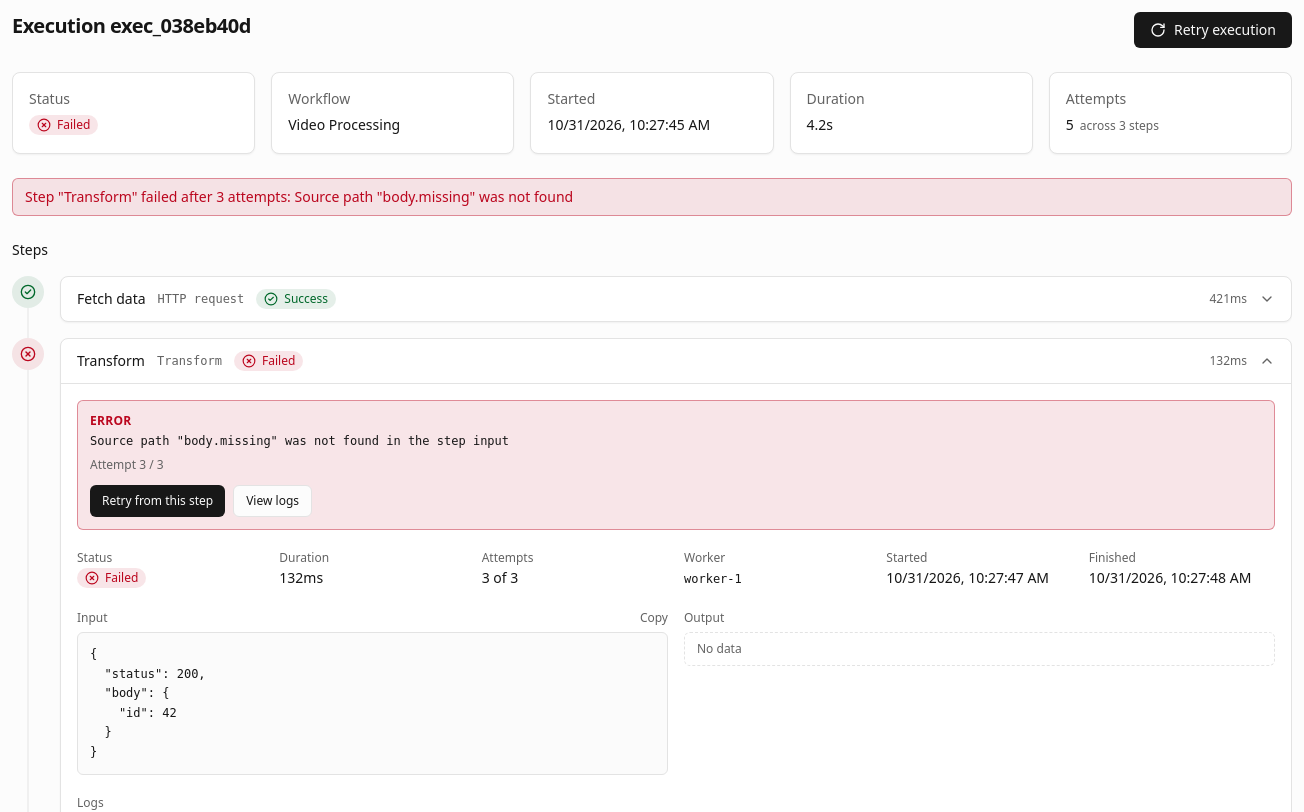
it: ExecutionDetailsPage actions › retries a failed execution and swaps the retry button for cancel
Step 1. Click the button "Retry execution" → (1213, 30), box [1134, 12, 1292, 48]
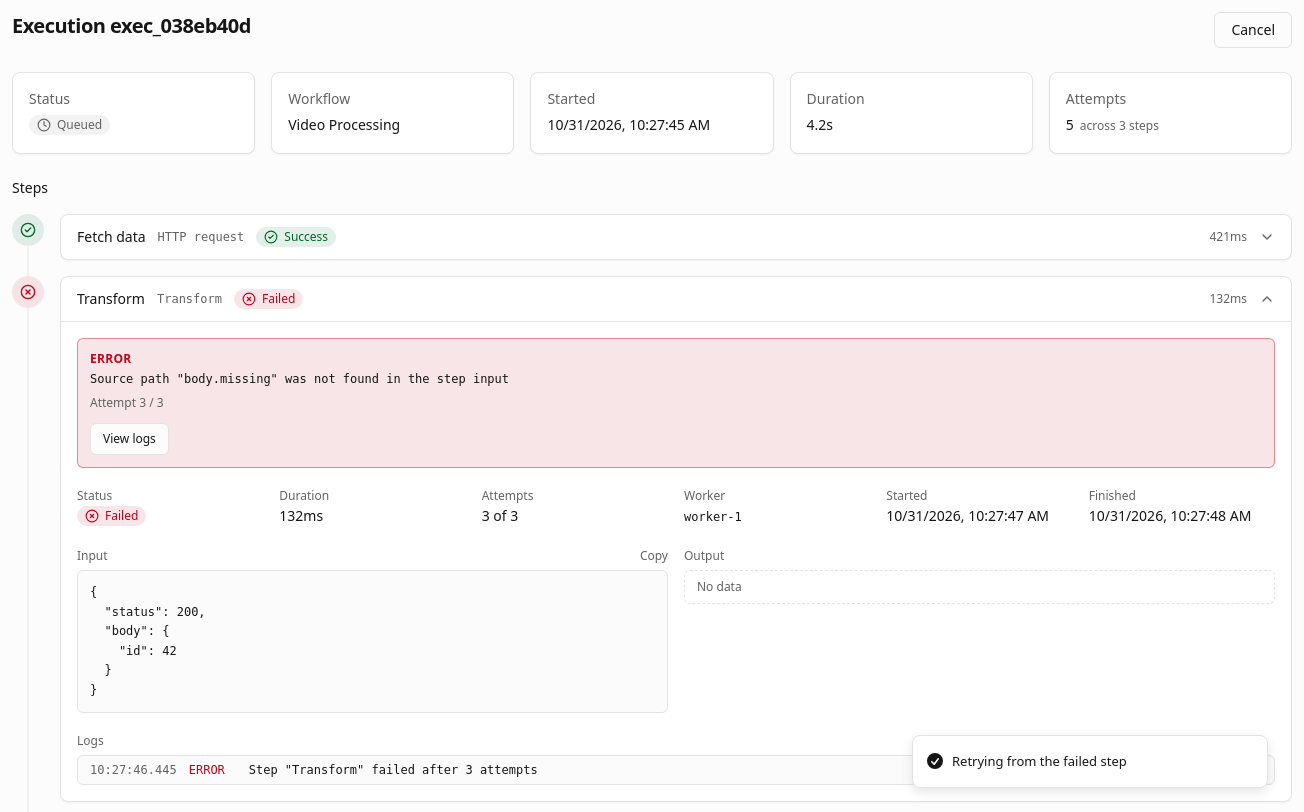
Now the text "Retrying from the failed step" is shown, box [952, 752, 1127, 771]
Now the button "Retry execution" is gone
Now the button "Cancel" is shown, box [1214, 12, 1292, 48]
